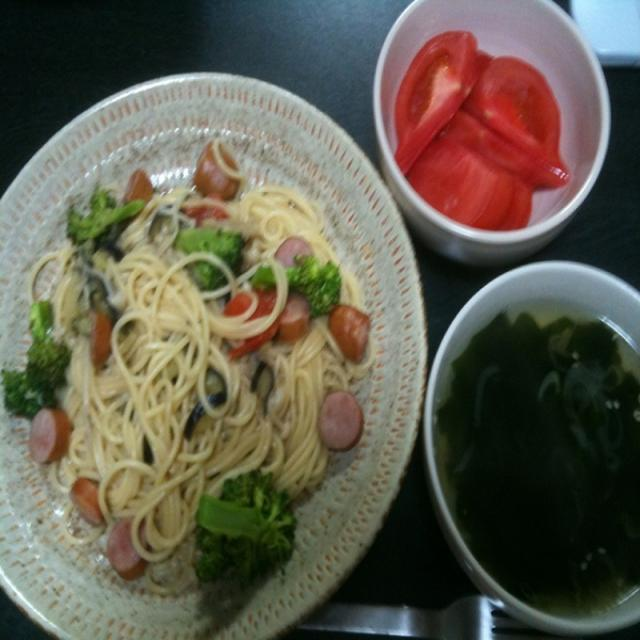Pasta: (33, 152, 381, 571)
